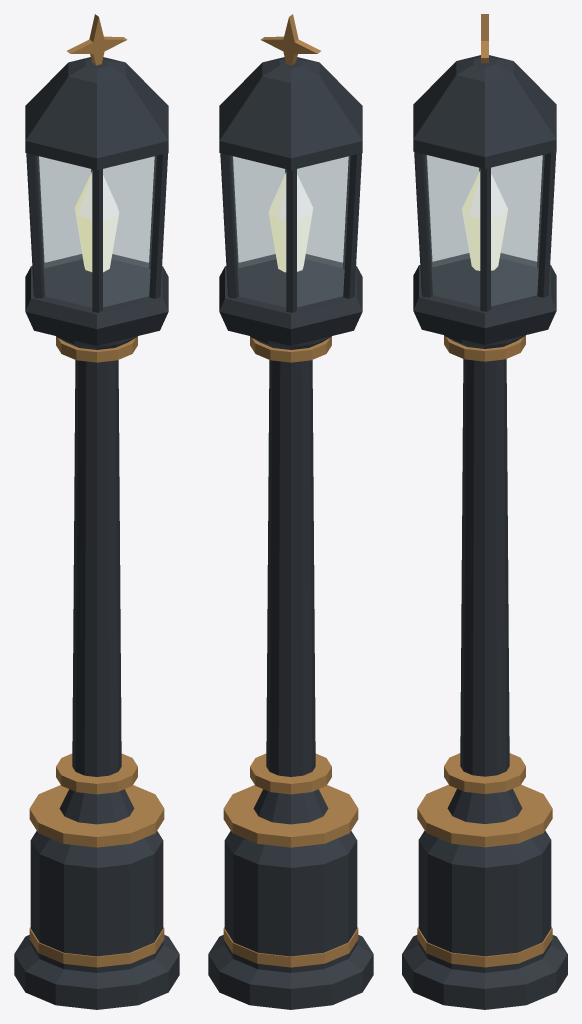
File: Furn_LampPost2.fbx
The picture shows the model from 3 angles, left to right: view 1: azimuth 30°, elevation 25°; view 2: azimuth 150°, elevation 25°; view 3: azimuth 270°, elevation 25°; orthographic projection.
Visible parts, largest first — view 1: Furn_LampPost2_Mesh; view 2: Furn_LampPost2_Mesh; view 3: Furn_LampPost2_Mesh.
Part boxes in pixels (x1,y1,x2,y2): Furn_LampPost2_Mesh: [14, 14, 179, 1009]; Furn_LampPost2_Mesh: [208, 14, 373, 1009]; Furn_LampPost2_Mesh: [402, 14, 567, 1009].
Size of the model in its own units: 0.5 by 3.2 by 0.5.
